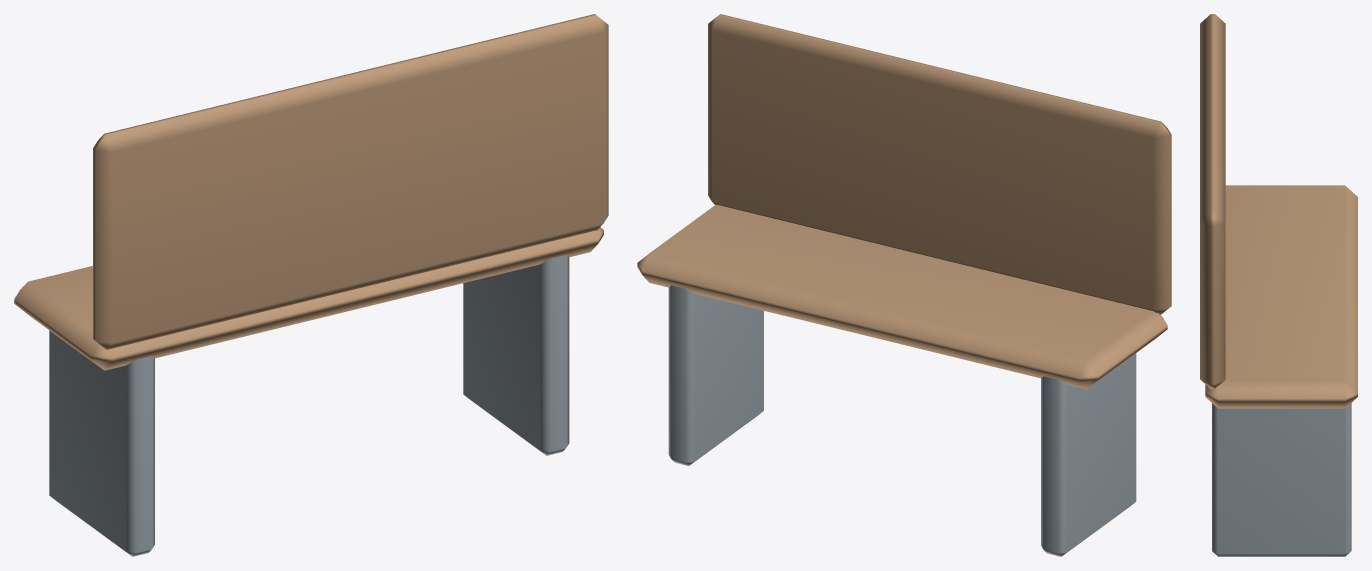
File: bench.glb
3 renders of one model, left to right at view 1: azimuth 30°, elevation 25°; view 2: azimuth 150°, elevation 25°; view 3: azimuth 270°, elevation 25°, orthographic. The views are drawn at different scales.
Visible parts, largest first — view 1: bench_back, bench_leg, bench_leg.001, bench_seat; view 2: bench_back, bench_seat, bench_leg, bench_leg.001; view 3: bench_seat, bench_leg.001, bench_back.
Part boxes in pixels (left/top/right/bottom): bench_back: left=93, top=14, right=608, bottom=349; bench_leg: left=49, top=330, right=154, bottom=556; bench_leg.001: left=463, top=255, right=569, bottom=455; bench_seat: left=14, top=227, right=603, bottom=370; bench_back: left=708, top=14, right=1171, bottom=314; bench_seat: left=637, top=204, right=1167, bottom=389; bench_leg: left=1041, top=353, right=1136, bottom=556; bench_leg.001: left=668, top=285, right=763, bottom=465; bench_seat: left=1205, top=185, right=1357, bottom=408; bench_leg.001: left=1212, top=403, right=1351, bottom=556; bench_back: left=1200, top=14, right=1225, bottom=388.
Bounding box in the file's own units: 2.28 × 1.84 × 0.735.
